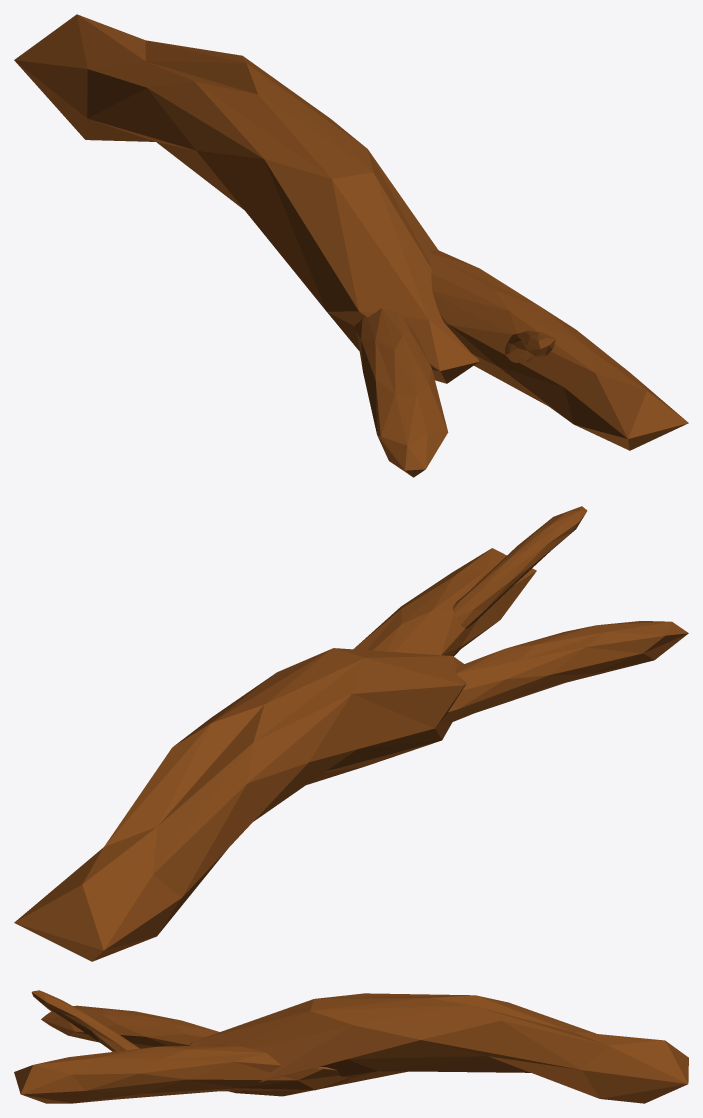
File: konar.fbx
3 views of the same model, one above another, from view 1: azimuth 30°, elevation 25°; view 2: azimuth 150°, elevation 25°; view 3: azimuth 270°, elevation 25° (orthographic). The views are drawn at different scales.
Parts seen in each view (by area): view 1: konar zaplonie; view 2: konar zaplonie; view 3: konar zaplonie.
Part boxes in pixels (x1,y1,x2,y2): konar zaplonie: [14, 14, 688, 477]; konar zaplonie: [14, 506, 688, 961]; konar zaplonie: [14, 990, 688, 1103].
Bounding box in the file's own units: 457 × 272 × 1656.
